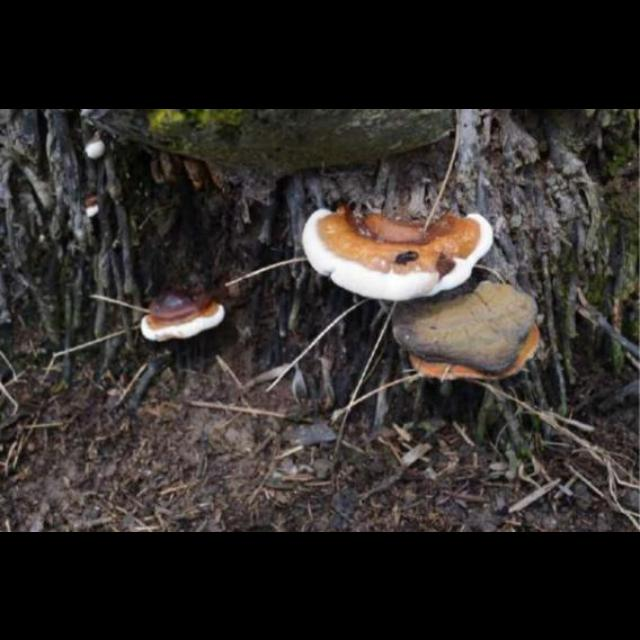ganoderma: (303, 186, 490, 304), (389, 282, 543, 385), (142, 290, 227, 342)
primordium: (84, 131, 108, 161), (84, 202, 102, 218)
